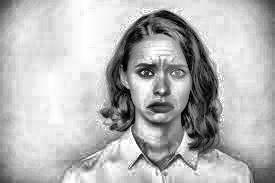sad: (116, 24, 198, 149)
